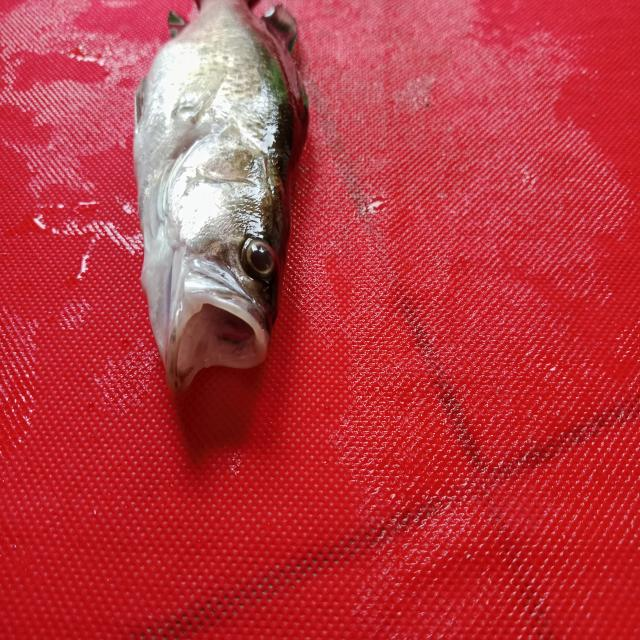ikan: (120, 11, 319, 407)
